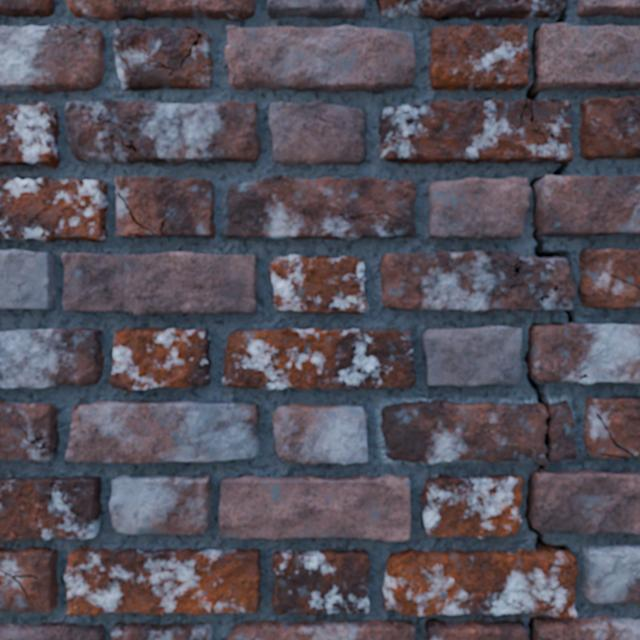broken_brick: (381, 400, 549, 465), (547, 401, 577, 462)
crack: (376, 0, 639, 460), (382, 464, 639, 639), (64, 547, 261, 615), (219, 474, 411, 541), (225, 25, 416, 92), (226, 175, 416, 240), (64, 101, 260, 164), (62, 252, 257, 315), (65, 401, 259, 463), (223, 328, 415, 389), (0, 23, 104, 93), (0, 177, 107, 241), (429, 24, 529, 91), (0, 476, 102, 541), (422, 474, 523, 539), (271, 549, 369, 615), (113, 25, 212, 90), (269, 101, 366, 166), (110, 328, 210, 391), (0, 328, 104, 388), (115, 176, 215, 237), (109, 475, 210, 534), (422, 326, 521, 386), (269, 254, 368, 314), (273, 403, 368, 464), (0, 102, 59, 168), (579, 96, 639, 160), (66, 0, 255, 20), (0, 547, 58, 612), (227, 619, 414, 639), (578, 249, 639, 309), (0, 400, 58, 462), (584, 397, 639, 459), (583, 544, 639, 603), (0, 250, 56, 309), (425, 618, 527, 639), (267, 0, 365, 19), (0, 622, 105, 639), (110, 622, 212, 639), (577, 0, 639, 17), (0, 0, 55, 17)
